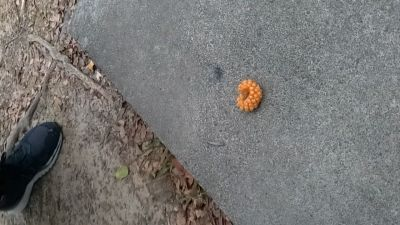eggs: (234, 78, 263, 114)
